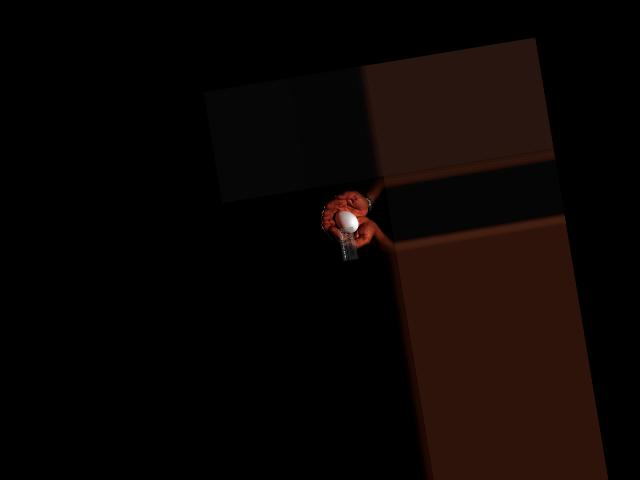egg: (333, 208, 359, 234)
